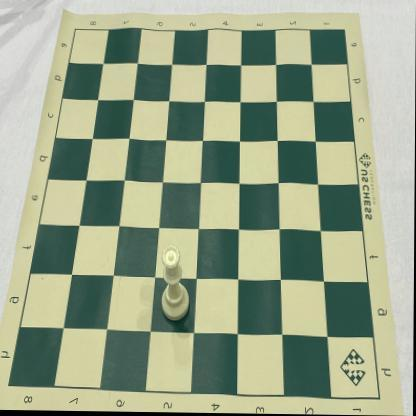white-queen: (161, 244, 190, 323)
